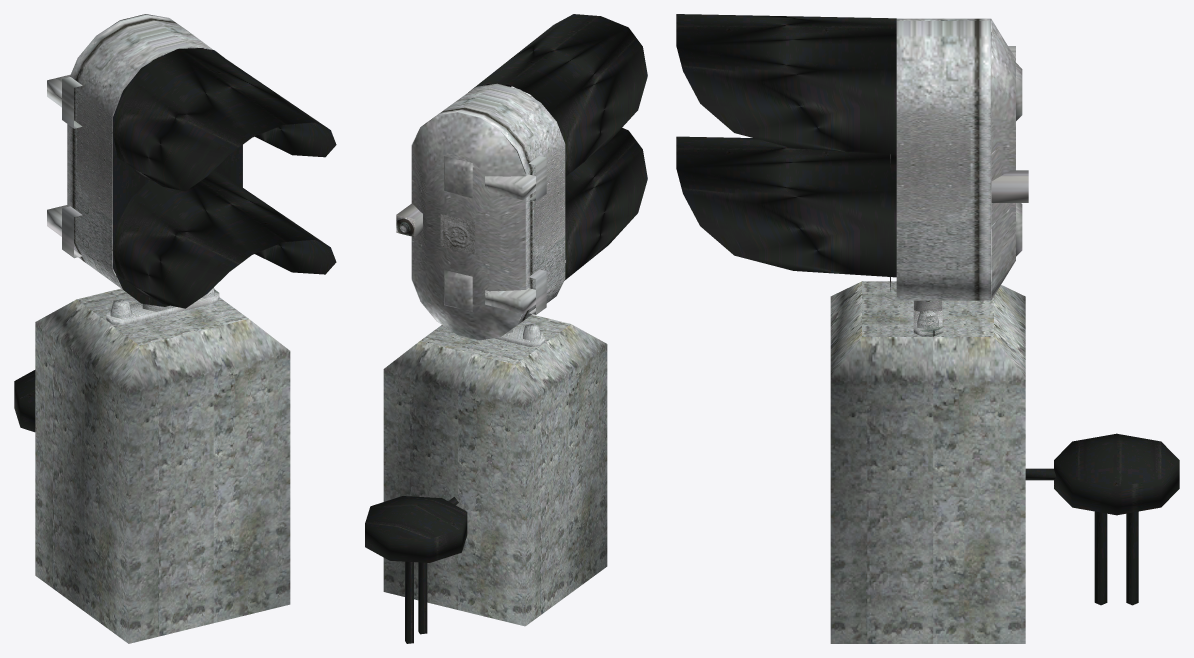
The model's file is shunting.obj.
The picture shows the model from 3 angles, left to right: view 1: azimuth 30°, elevation 25°; view 2: azimuth 150°, elevation 25°; view 3: azimuth 270°, elevation 25°; orthographic projection. The views are drawn at different scales.
Parts seen in each view (by area): view 1: Body_0_Signal0_SolidNorm0, Body_1_Signal1_SolidLoShine1; view 2: Body_0_Signal0_SolidNorm0, Body_1_Signal1_SolidLoShine1; view 3: Body_0_Signal0_SolidNorm0, Body_1_Signal1_SolidLoShine1.
Part boxes in pixels (box(x1,y1,x2,y2)): Body_0_Signal0_SolidNorm0: box(14, 47, 336, 643); Body_1_Signal1_SolidLoShine1: box(47, 14, 242, 325); Body_0_Signal0_SolidNorm0: box(365, 14, 647, 643); Body_1_Signal1_SolidLoShine1: box(396, 83, 565, 346); Body_0_Signal0_SolidNorm0: box(676, 14, 1179, 643); Body_1_Signal1_SolidLoShine1: box(896, 18, 1028, 336).
Bounding box in the file's own units: 0.31 × 1.01 × 0.8002.
4 materials, 4 textured.
